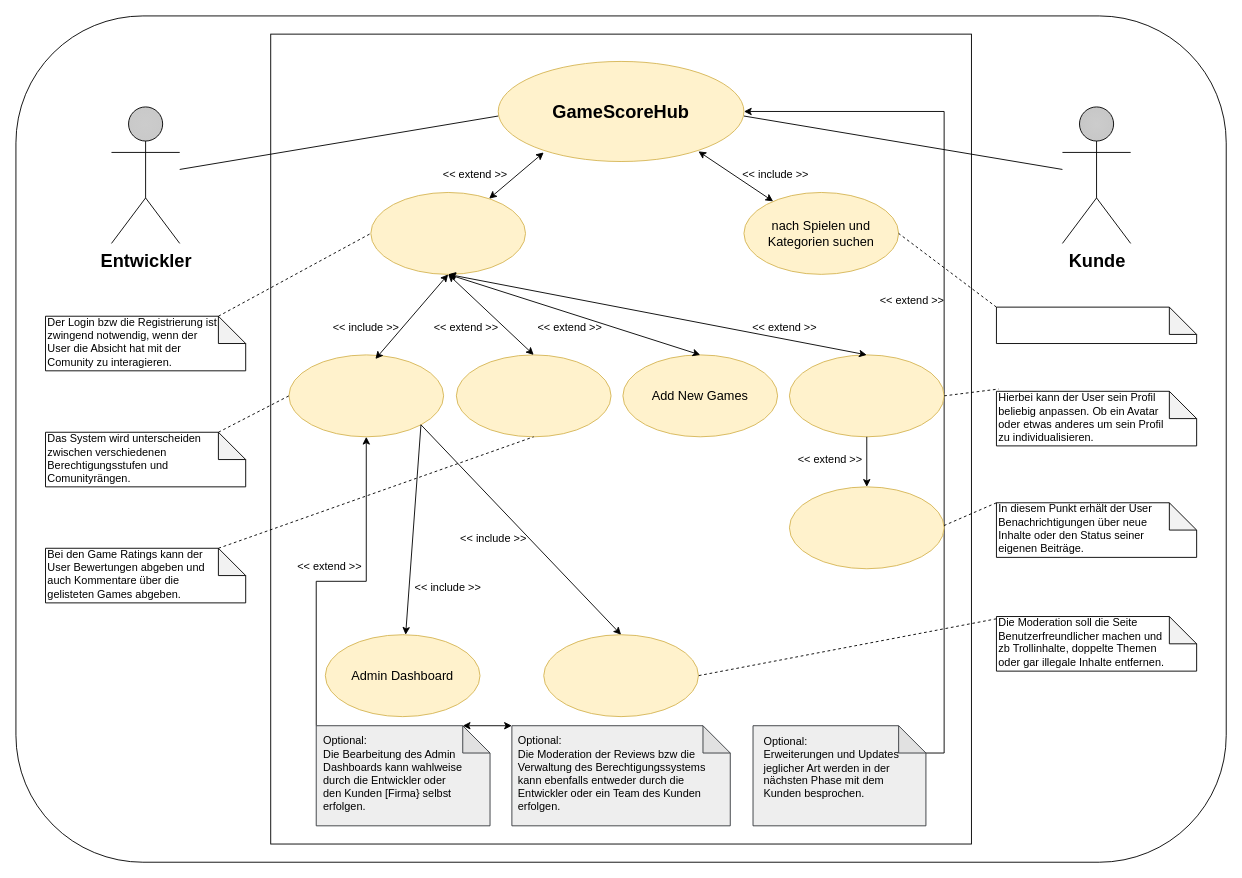
The diagram is 1242 pixels wide and 878 high, and some of its shapes have lost their labels. Each missing label, with the centre of its shape:
Berechtigungssystem: the point at 366,395
Games Rating: the point at 533,395
Hierbei ist kein Login notwenig.: the point at 1096,325
Notfication System: the point at 866,527
Review Moderation: the point at 620,675
User Profile Management: the point at 866,395
User Registration / Login: the point at 448,233
